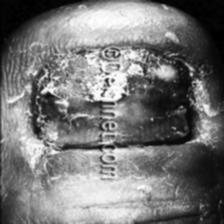Non-Cancerous Skin Condition: (18, 33, 94, 192), (124, 47, 215, 155)
